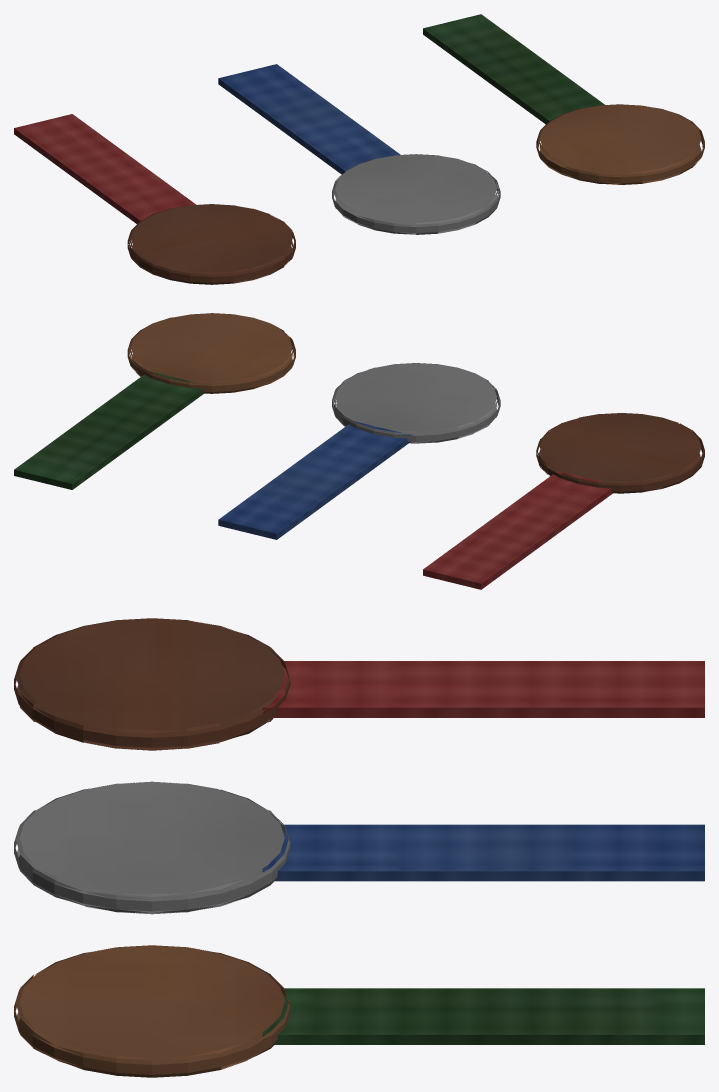
The model's file is SP22_Medals.glb.
3 renders of one model, top to bottom at view 1: azimuth 30°, elevation 25°; view 2: azimuth 150°, elevation 25°; view 3: azimuth 270°, elevation 25°, orthographic. The views are drawn at different scales.
Parts seen in each view (by area): view 1: SP22_Medals; view 2: SP22_Medals; view 3: SP22_Medals.
Boxes of the visible parts, x1,y1,x2,y2 form: SP22_Medals: [14, 14, 704, 284]; SP22_Medals: [14, 313, 704, 589]; SP22_Medals: [14, 618, 704, 1077].
Bounding box in the file's own units: 0.1 × 0.00211 × 0.0658.
Materials: 6 (6 with a texture image).
